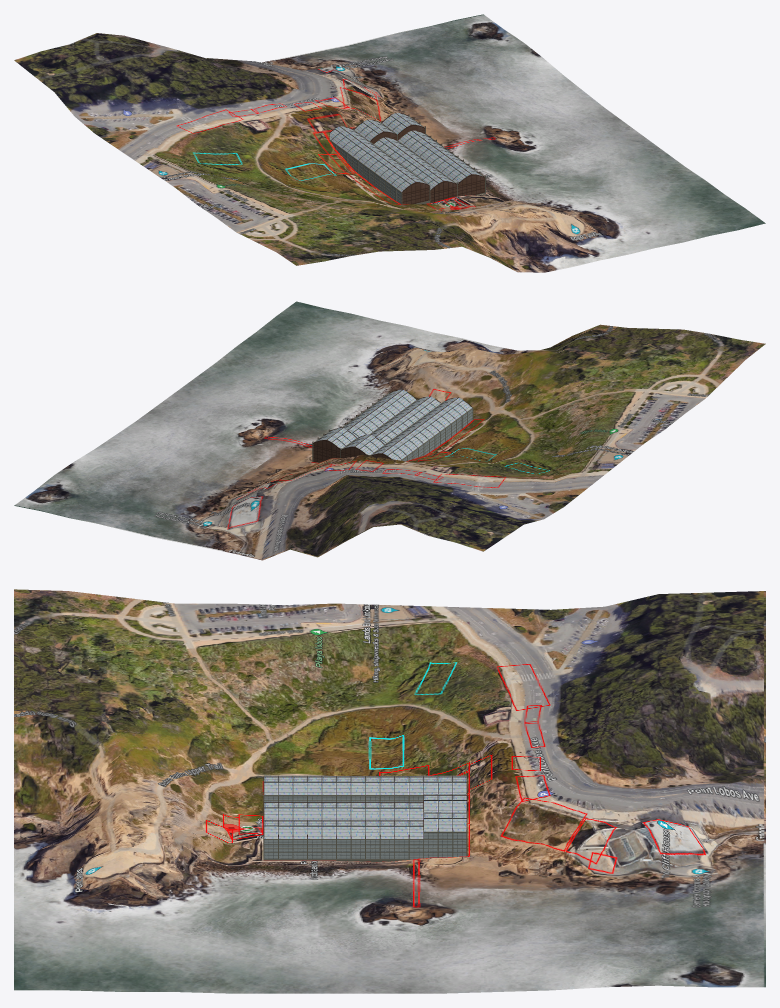
File: bath_structure_sutro_05.fbx
3 renders of one model, top to bottom at view 1: azimuth 30°, elevation 25°; view 2: azimuth 150°, elevation 25°; view 3: azimuth 270°, elevation 25°, orthographic. The views are drawn at different scales.
Parts seen in each view (by area): view 1: Terrain, front.003, front, front.002; view 2: Terrain, front.003, front, front.002; view 3: Terrain, front, front.003, front.002.
Boxes of the visible parts, x1,y1,x2,y2 form: Terrain: (14, 14, 765, 272); front.003: (330, 126, 429, 204); front: (382, 113, 484, 196); front.002: (354, 119, 457, 202); Terrain: (14, 301, 765, 560); front.003: (372, 397, 472, 460); front: (313, 389, 415, 462); front.002: (341, 396, 440, 458); Terrain: (14, 589, 765, 993); front: (264, 812, 466, 858); front.003: (264, 775, 466, 801); front.002: (264, 794, 466, 819).
Bounding box in the file's own units: 41549 × 6800 × 43291.
